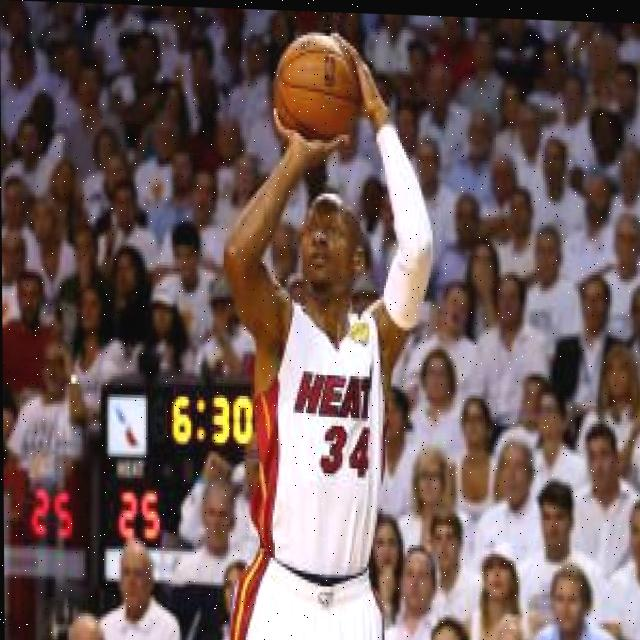Basketball: (276, 31, 362, 141)
